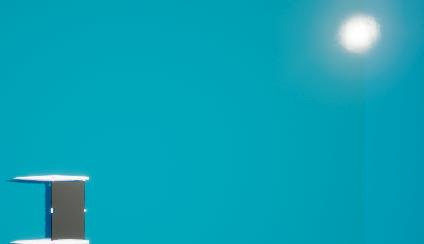boat: (11, 173, 91, 244)
drone: (52, 183, 86, 238)
land_base: (313, 0, 418, 73)
